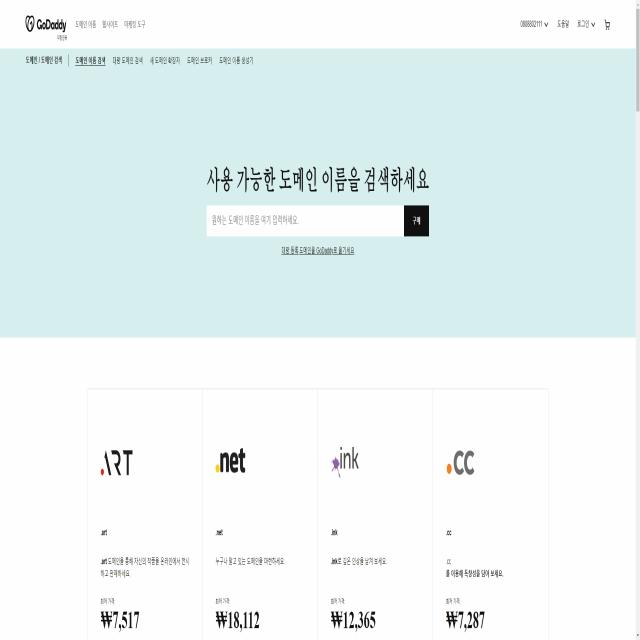menu-bar: (520, 17, 612, 39)
search: (206, 204, 430, 239)
tab-bar: (23, 51, 256, 73), (23, 15, 147, 42)
